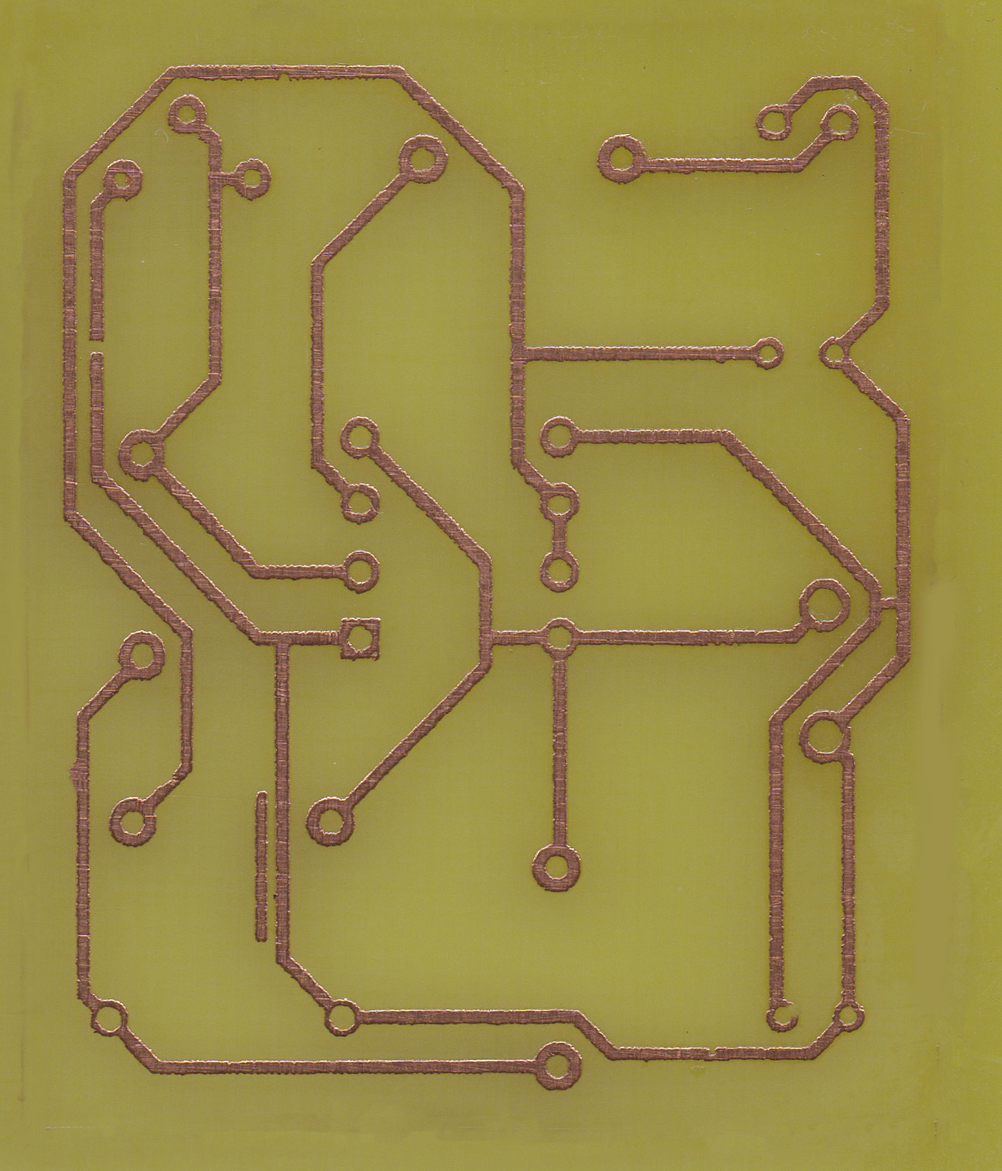missing_hole: (761, 997, 802, 1034)
mouse_bite: (266, 67, 303, 84), (703, 1043, 725, 1069)
open_circuit: (87, 330, 106, 363)
short: (863, 587, 913, 621)
spur: (70, 751, 94, 792), (709, 345, 734, 367)
spurious_copper: (254, 790, 270, 947)
